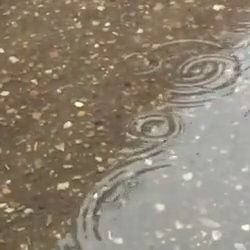drop: (177, 56, 242, 94), (127, 110, 181, 141), (121, 49, 160, 76), (57, 81, 78, 100)
